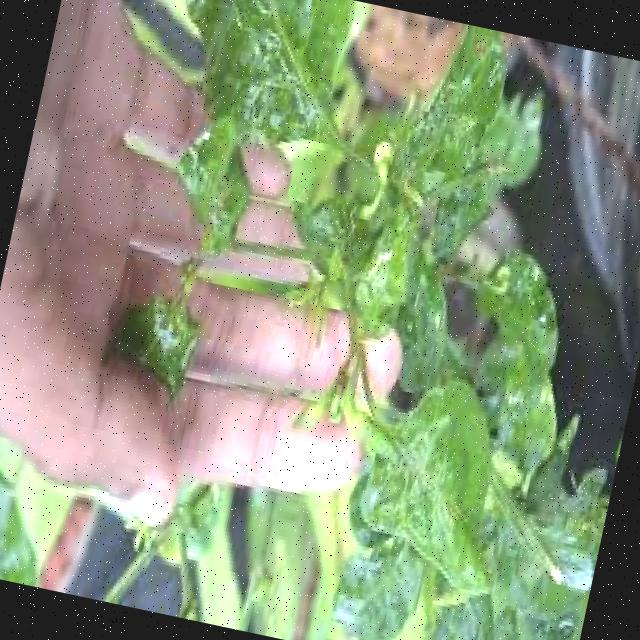leaf curl: (293, 19, 640, 640), (148, 0, 387, 298)
